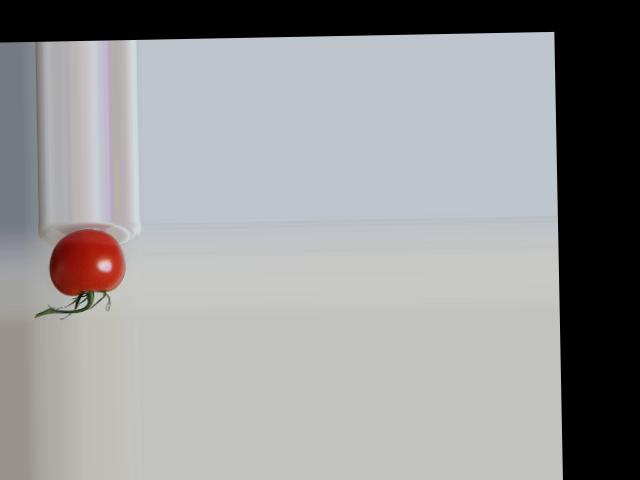tomato: (48, 228, 125, 296)
